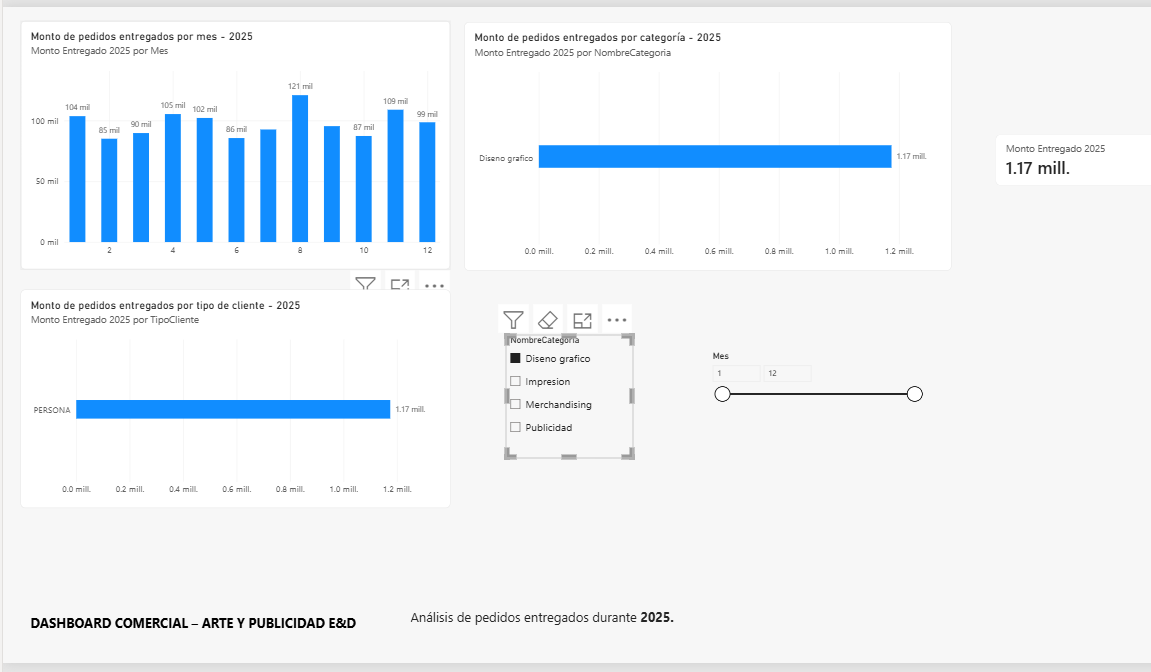

The dashboard page shown, as its layout file describes it:
{"tool":"powerbi","page":{"name":"Página 1","canvas":[1920,1080],"ordinal":0},"visuals":[{"type":"cardVisual","fields":{"Data":["FactVentas.Monto Entregado 2025"]},"box":[1634.3,209.9,271.7,84.4],"z":0},{"type":"clusteredColumnChart","title":"Monto de pedidos entregados por mes - 2025","fields":{"Category":["DimFecha.Mes"],"Y":["FactVentas.Monto Entregado 2025"]},"box":[28.8,22.6,708.1,409.6],"z":1000},{"type":"clusteredBarChart","title":"Monto de pedidos entregados por categoría - 2025","fields":{"Category":["DimServicio.NombreCategoria"],"Y":["FactVentas.Monto Entregado 2025"]},"box":[759.5,24.7,802.7,409.6],"z":2000},{"type":"clusteredBarChart","title":"Monto de pedidos entregados por tipo de cliente - 2025","fields":{"Category":["DimCliente.TipoCliente"],"Y":["FactVentas.Monto Entregado 2025"]},"box":[28.8,465.2,708.1,360.2],"z":3000},{"type":"slicer","fields":{"Values":["DimServicio.NombreCategoria"]},"box":[827.4,539.3,209.9,203.8],"z":4000},{"type":"slicer","fields":{"Values":["DimFecha.Mes"]},"box":[1160.9,566,356.1,150.3],"z":5000},{"type":"textbox","box":[0,1018.9,117.3,61.7],"z":6000},{"type":"textbox","box":[45.3,926.2,615.4,121.4],"z":7000},{"type":"textbox","box":[670,897.5,615,150],"z":8000}]}

Visuals, with their boxes on the page's 1920x1080 design canvas (x1, y1, x2, y2). These are canvas units, not pixel positions in the 1151x672 screenshot, which may show the page scaled, cropped or inside an application window:
cardVisual - FactVentas.Monto Entregado 2025: bbox(1634, 210, 1906, 294)
"Monto de pedidos entregados por mes - 2025" clusteredColumnChart: bbox(29, 23, 737, 432)
"Monto de pedidos entregados por categoría - 2025" clusteredBarChart: bbox(760, 25, 1562, 434)
"Monto de pedidos entregados por tipo de cliente - 2025" clusteredBarChart: bbox(29, 465, 737, 825)
slicer - DimServicio.NombreCategoria: bbox(827, 539, 1037, 743)
slicer - DimFecha.Mes: bbox(1161, 566, 1517, 716)
textbox: bbox(0, 1019, 117, 1081)
textbox: bbox(45, 926, 661, 1048)
textbox: bbox(670, 898, 1285, 1048)
